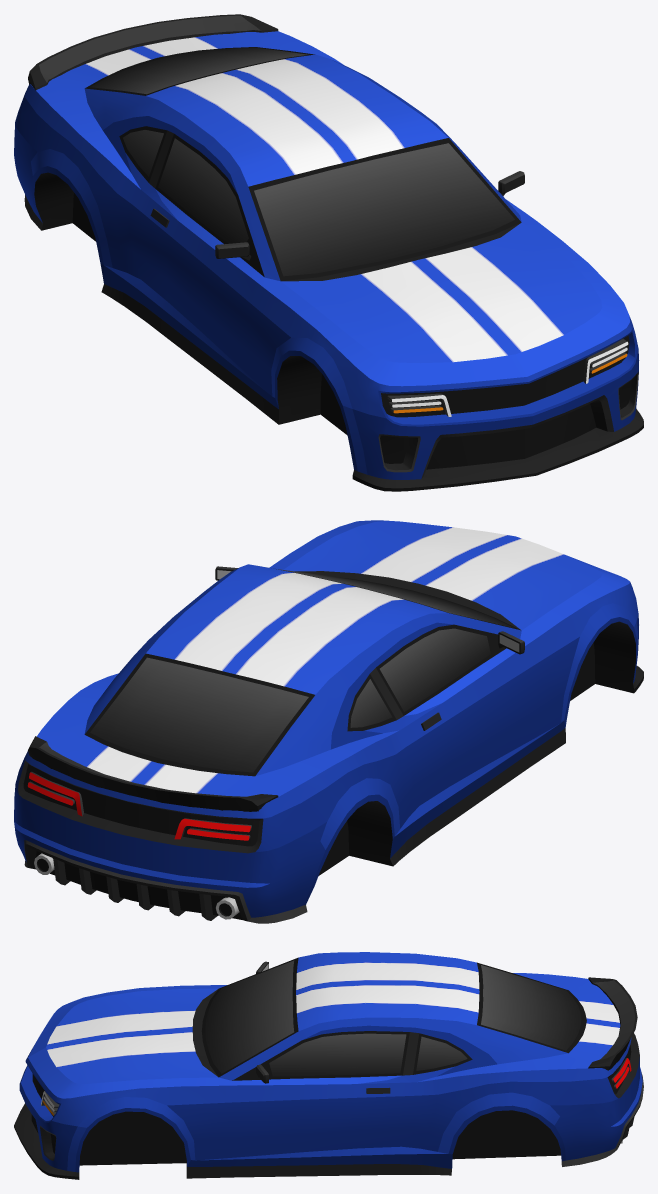
The model's file is PinkCar.fbx.
3 views of the same model, one above another, from view 1: azimuth 30°, elevation 25°; view 2: azimuth 150°, elevation 25°; view 3: azimuth 270°, elevation 25° (orthographic). The views are drawn at different scales.
Visible parts, largest first — view 1: Body, Spoiler; view 2: Body, Spoiler; view 3: Body, Spoiler.
Boxes of the visible parts, box(x1,y1,x2,y2) form: Body: box(14, 31, 643, 491); Spoiler: box(28, 14, 278, 90); Body: box(14, 520, 643, 923); Spoiler: box(28, 736, 278, 811); Body: box(14, 952, 643, 1179); Spoiler: box(588, 977, 637, 1070).
Bounding box in the file's own units: 4.12 × 2.46 × 9.64.
Materials: 3 (3 with a texture image).
